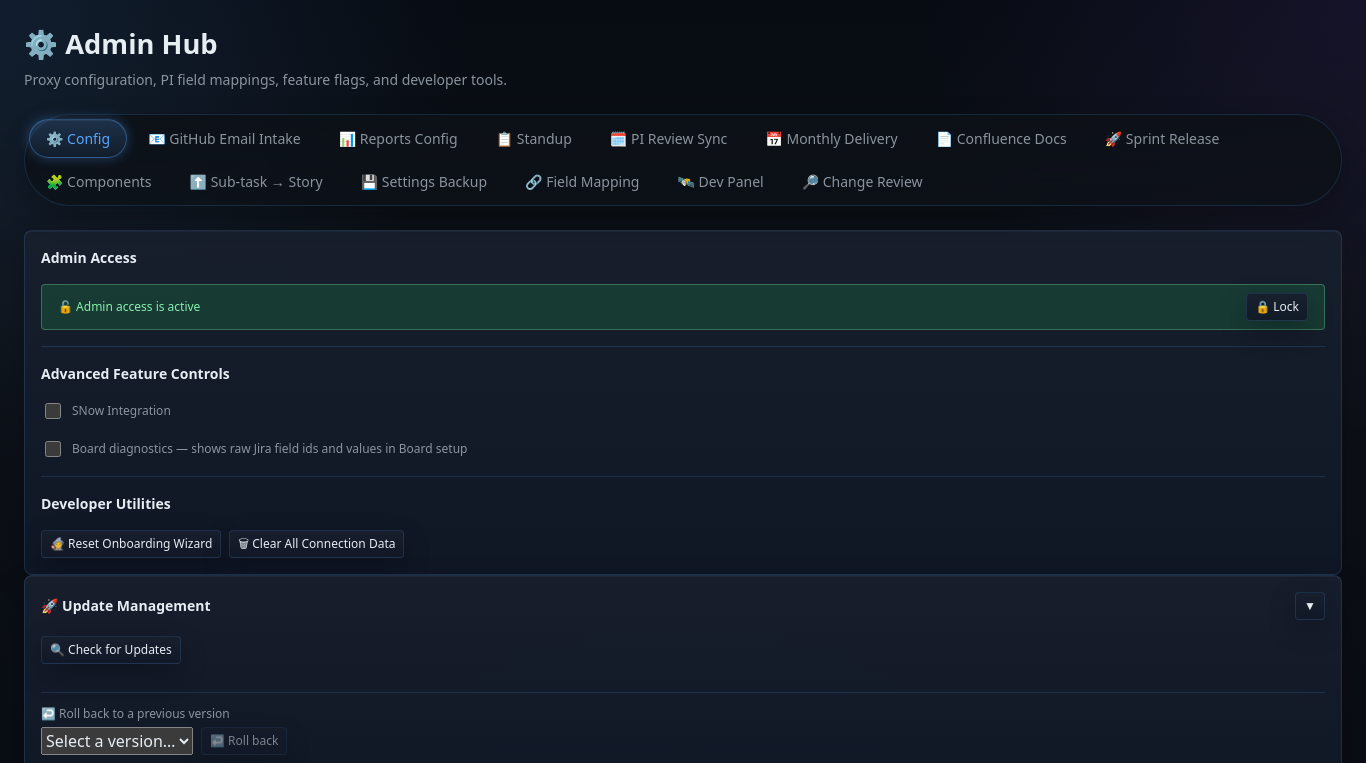
Test: Diagnostics section › renders the Diagnostics section in the Dev Panel tab
Click the tab "🛰️ Dev Panel" at coordinates (721, 182), box [660,162,781,201]
(page scrolled)
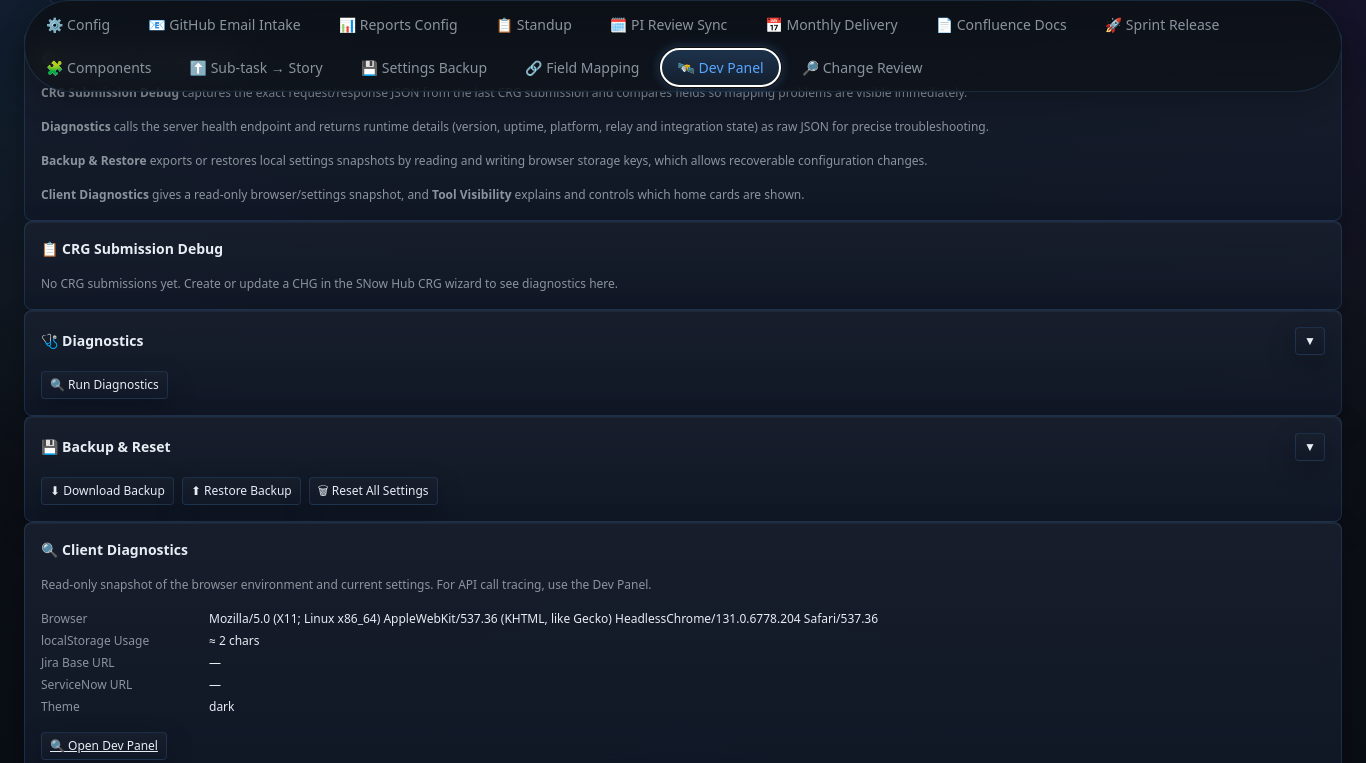
Expected: the button "🔍 Run Diagnostics" is shown, [41,371,168,399]
